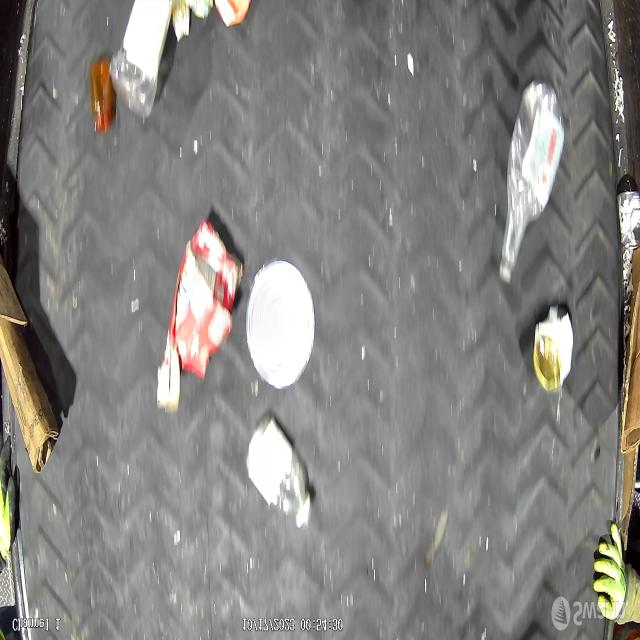can: (618, 190, 640, 250)
plastic_bottle: (499, 78, 566, 284), (248, 414, 315, 530)
